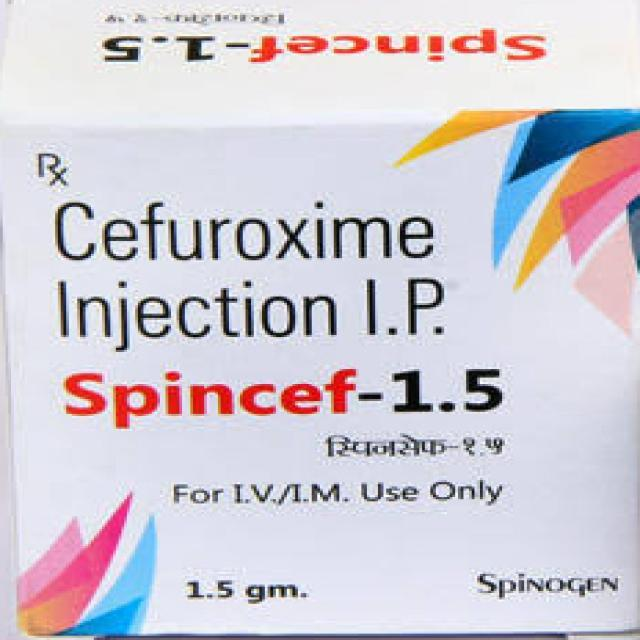drug-name: (61, 368, 505, 431)
